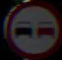No overtake: (6, 2, 58, 50)
